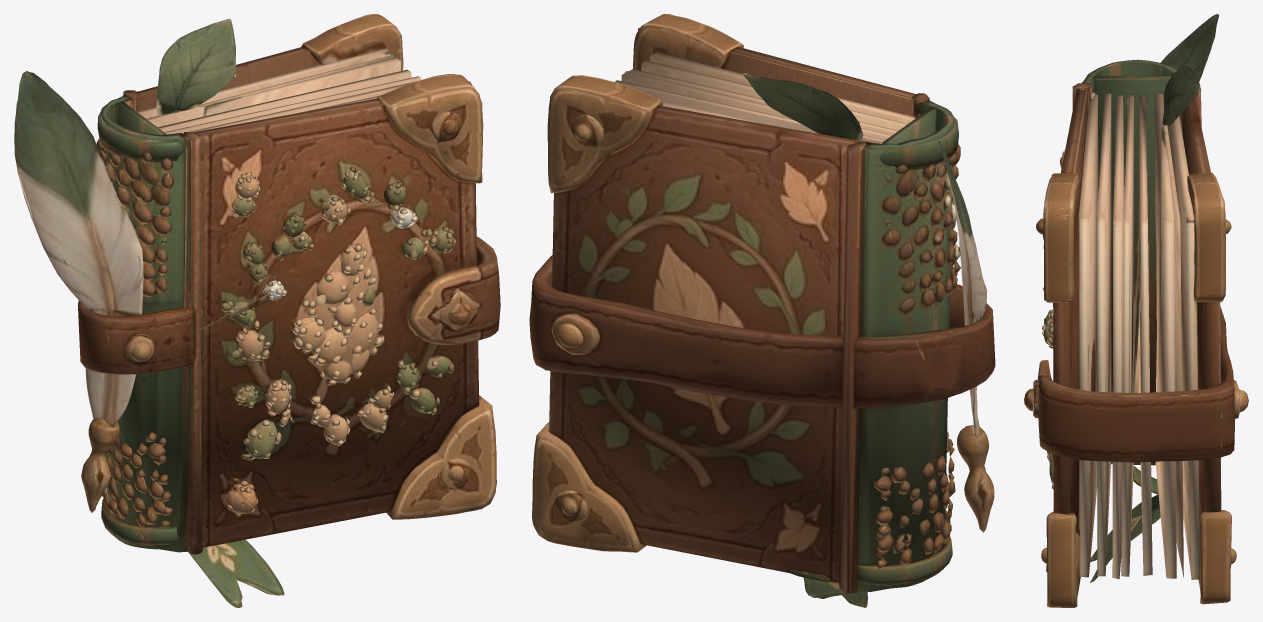
Rendered from grimorio_1.glb.
3 views of the same model, side by side, from view 1: azimuth 30°, elevation 25°; view 2: azimuth 150°, elevation 25°; view 3: azimuth 270°, elevation 25° (orthographic). The views are drawn at different scales.
Parts seen in each view (by area): view 1: grimorio_1; view 2: grimorio_1; view 3: grimorio_1.
Boxes of the visible parts, <box> form: grimorio_1: <box>14,14,500,607</box>; grimorio_1: <box>529,14,995,607</box>; grimorio_1: <box>1024,14,1248,607</box>.
Bounding box in the file's own units: 0.2798 × 0.34 × 0.1405.
1 material, 1 textured.
